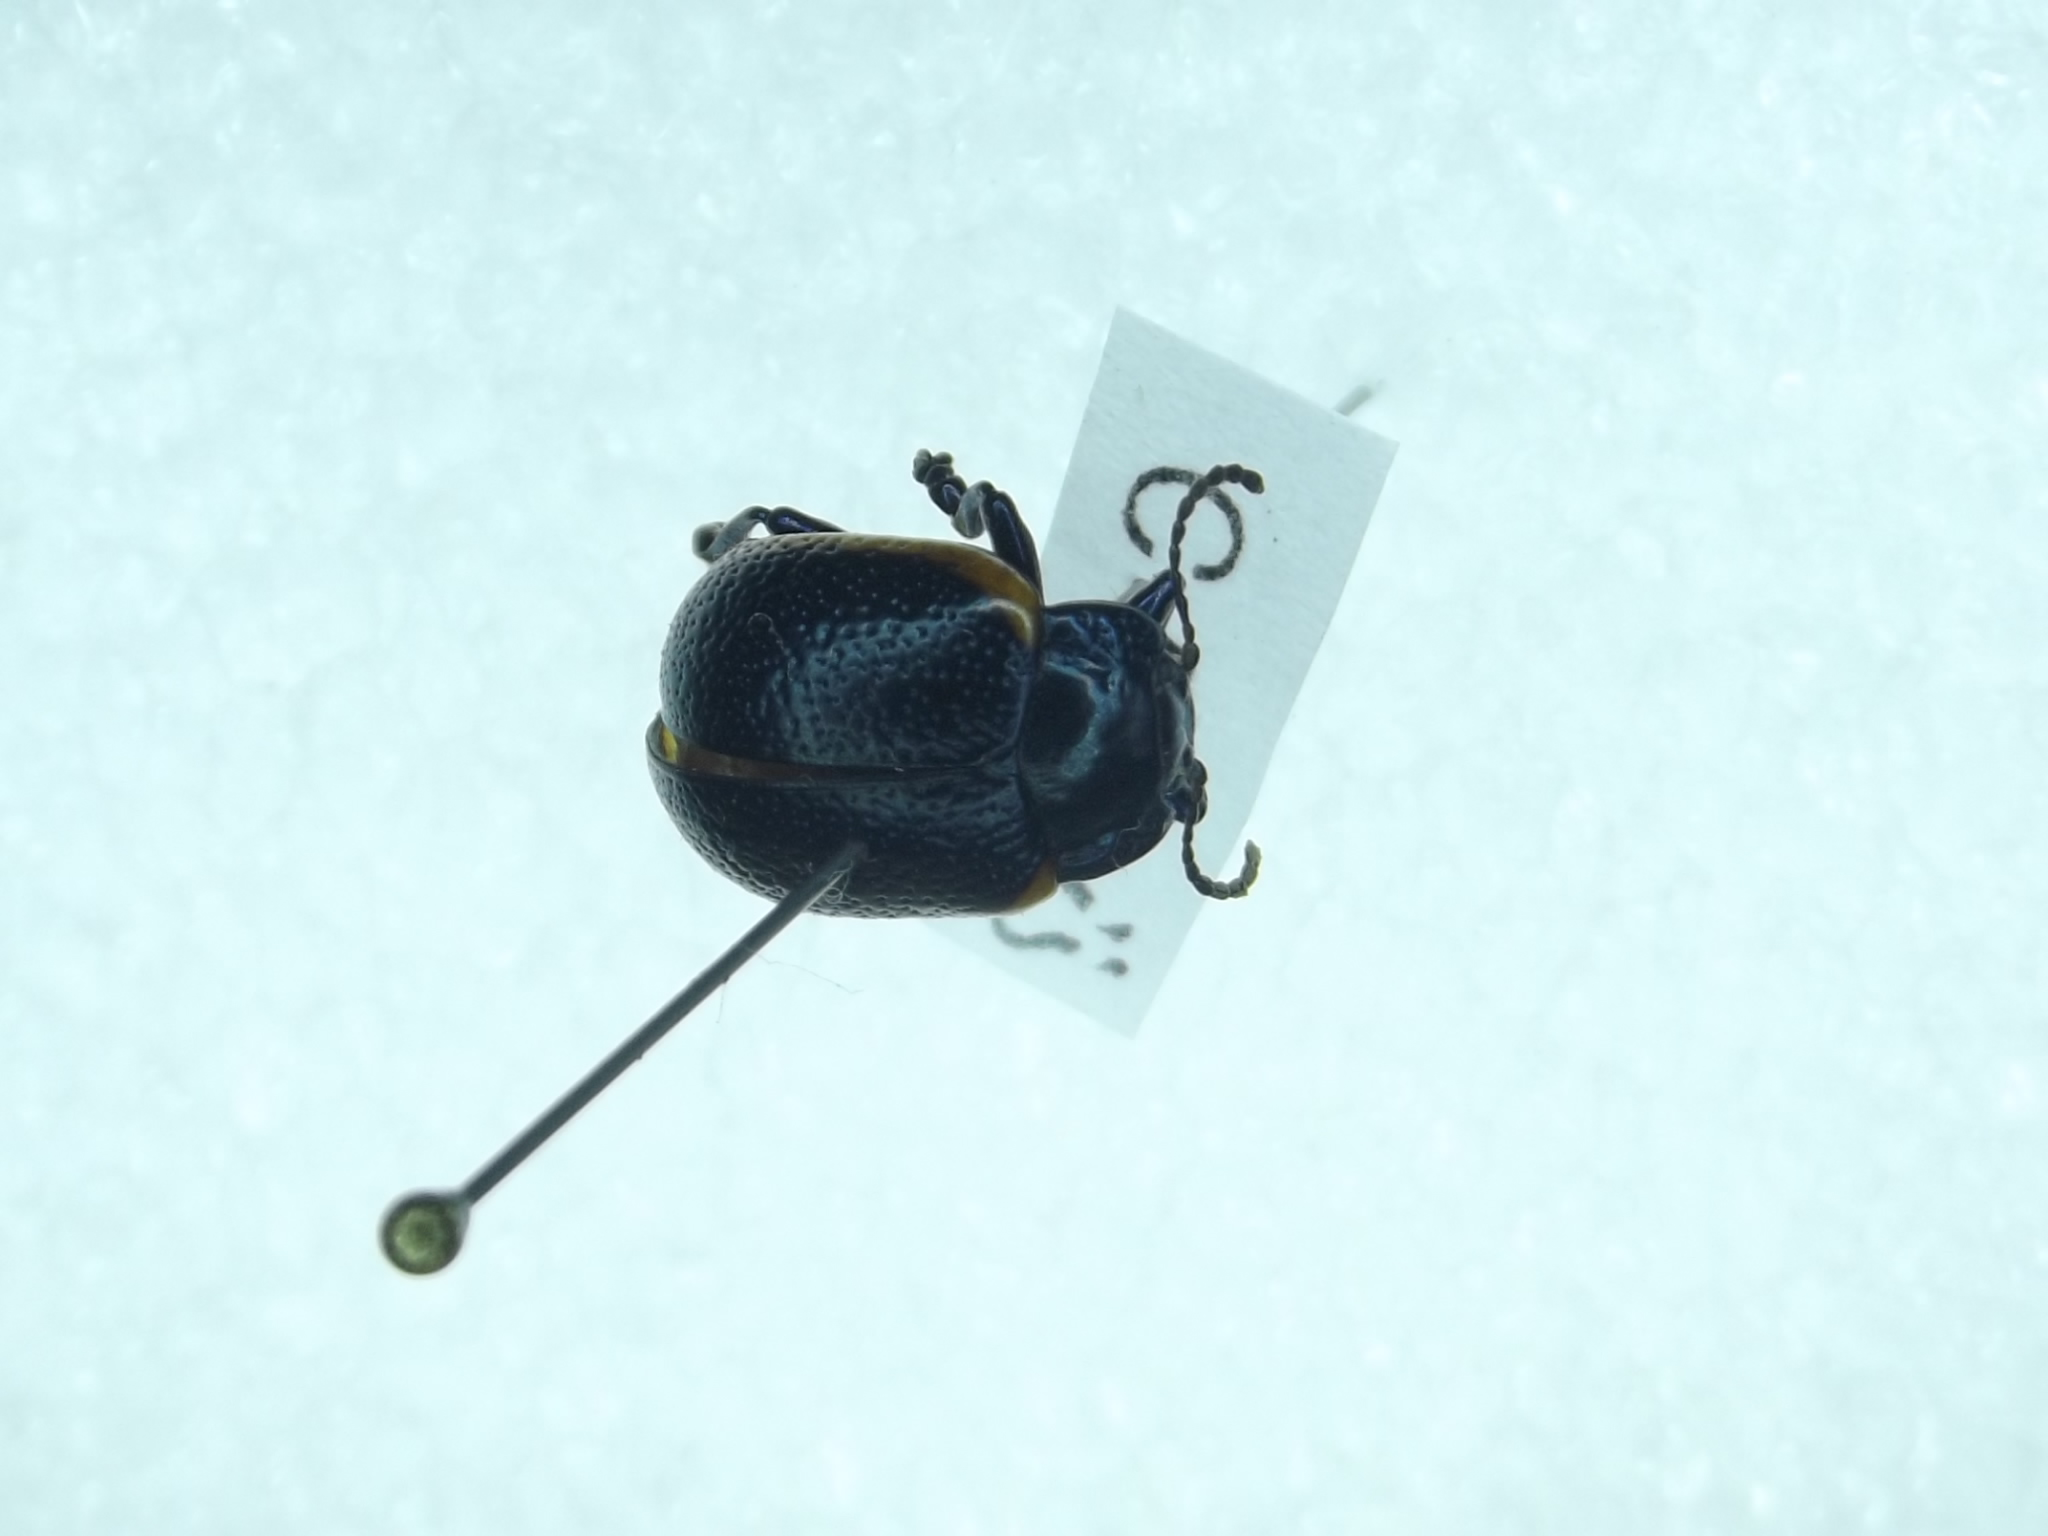Chrysolina_gypsophila: (640, 437, 1305, 937)
